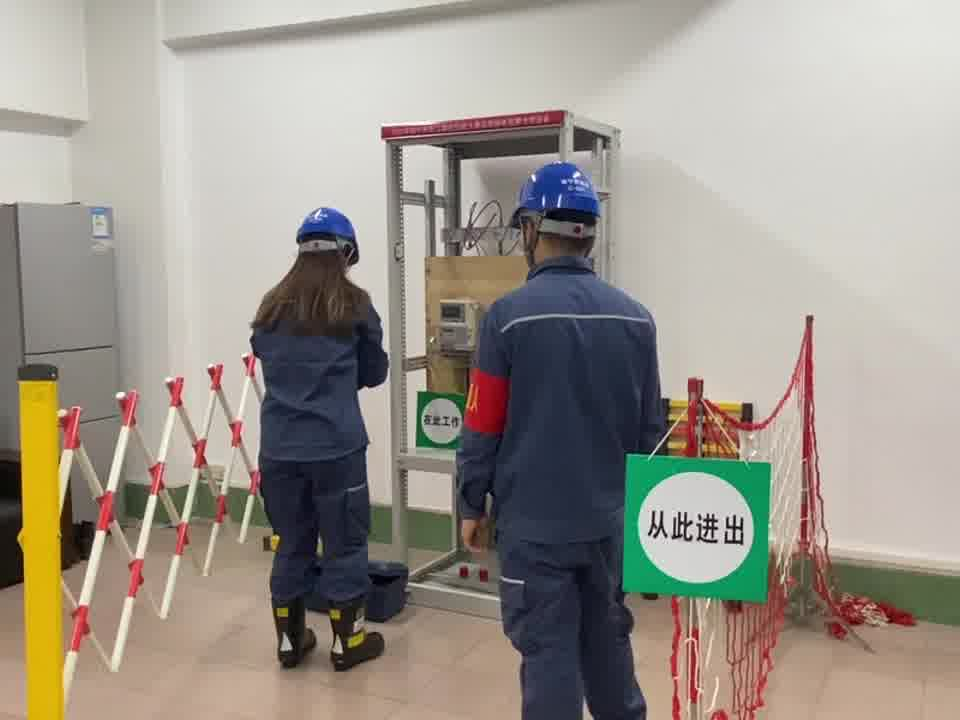badge: (462, 369, 512, 437)
downsuit: (498, 560, 653, 720), (258, 470, 384, 611)
hair: (252, 207, 369, 331)
halt: (507, 161, 605, 260)
hand: (458, 521, 486, 552)
inear: (516, 216, 547, 266)
intosign: (618, 454, 779, 610)
person: (453, 158, 672, 720), (246, 205, 405, 653)
shoe: (316, 592, 389, 672), (266, 593, 320, 665)
upsuit: (455, 263, 672, 543), (249, 296, 389, 455)
worksign: (411, 384, 469, 447)
